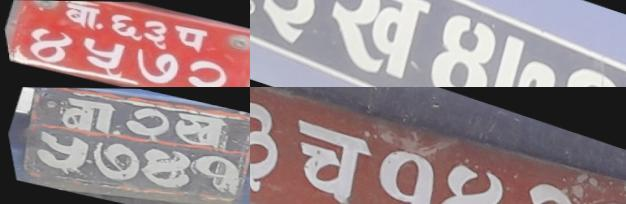1: (175, 151, 249, 201), (494, 172, 585, 204)
2: (112, 102, 178, 147), (174, 56, 233, 87)
3: (357, 139, 449, 204), (250, 0, 340, 52), (133, 16, 175, 48)
4: (411, 1, 506, 87), (127, 144, 199, 193), (16, 25, 81, 68)
5: (422, 155, 516, 204), (19, 128, 97, 178), (67, 36, 135, 78)
6: (529, 51, 625, 87), (101, 11, 147, 42)
7: (470, 23, 569, 87), (74, 138, 149, 189), (124, 46, 185, 86)
9: (273, 114, 378, 204)
ba: (250, 91, 295, 194), (48, 93, 124, 139), (58, 2, 106, 30)
kha: (305, 0, 444, 87), (162, 108, 238, 153)
pa: (166, 23, 211, 52)
